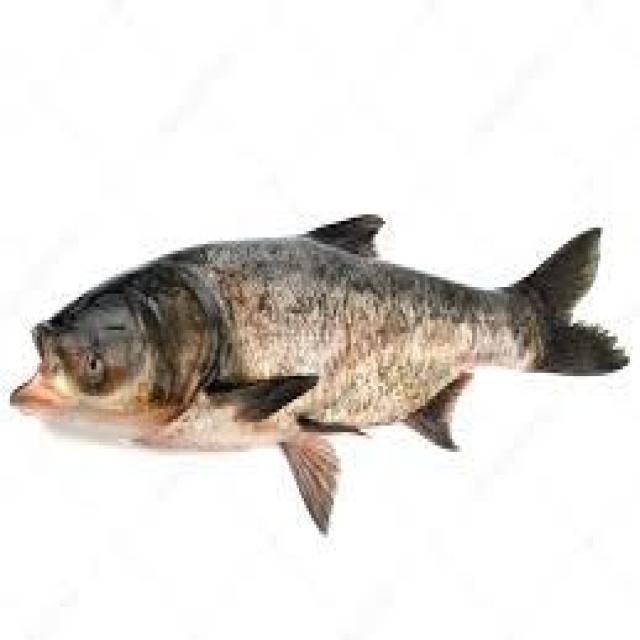Big-Head-Carp: (3, 23, 629, 610)
